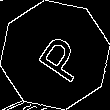P_NW: (24, 26, 86, 84)
